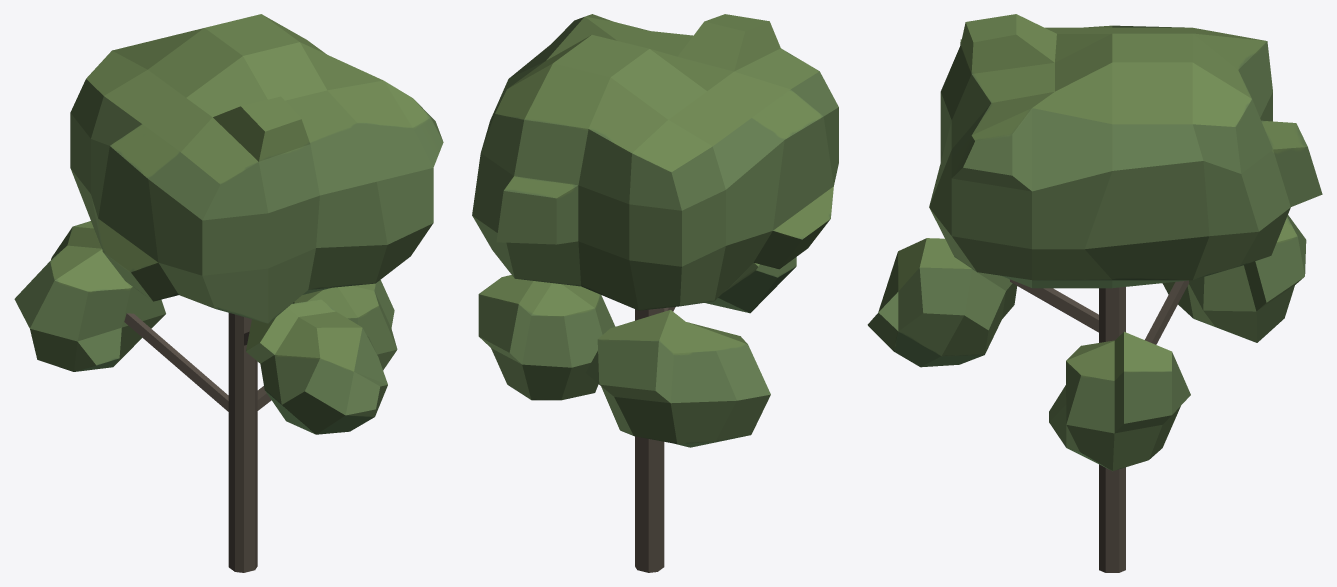
File: BgMD_tree.fbx
3 views of the same model, side by side, from view 1: azimuth 30°, elevation 25°; view 2: azimuth 150°, elevation 25°; view 3: azimuth 270°, elevation 25° (orthographic). The views are drawn at different scales.
Parts seen in each view (by area): view 1: pCube6; view 2: pCube6; view 3: pCube6.
Boxes of the visible parts, left/top/right/bottom form: pCube6: left=14, top=14, right=443, bottom=572; pCube6: left=472, top=14, right=838, bottom=572; pCube6: left=867, top=14, right=1322, bottom=572.
Bounding box in the file's own units: 230 × 347 × 268.
